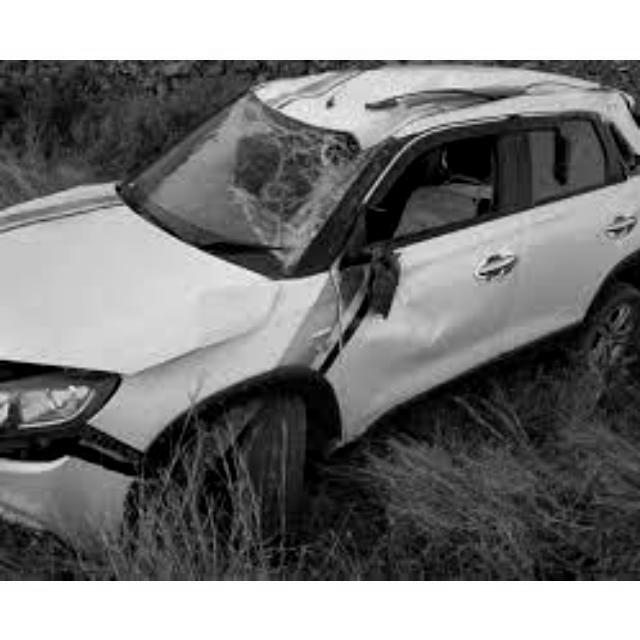Front-windscreen-damage: (131, 101, 367, 293)
Headlight-damage: (3, 342, 123, 473)
doorouter-dent: (345, 255, 524, 450)
roof-dent: (257, 62, 637, 136)
